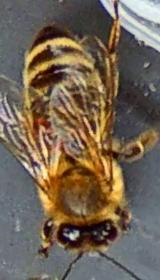varroa_mite: (28, 108, 55, 136)
